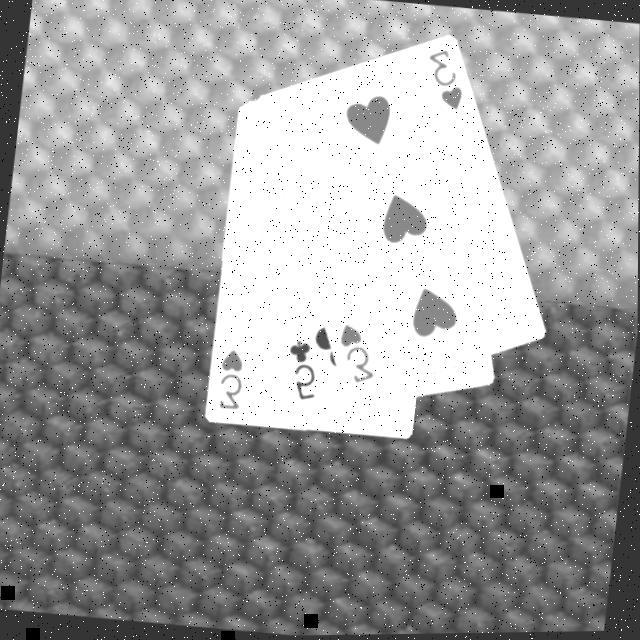3H: (331, 318, 382, 388), (418, 44, 469, 114), (212, 343, 248, 412)
5C: (280, 334, 324, 405)
